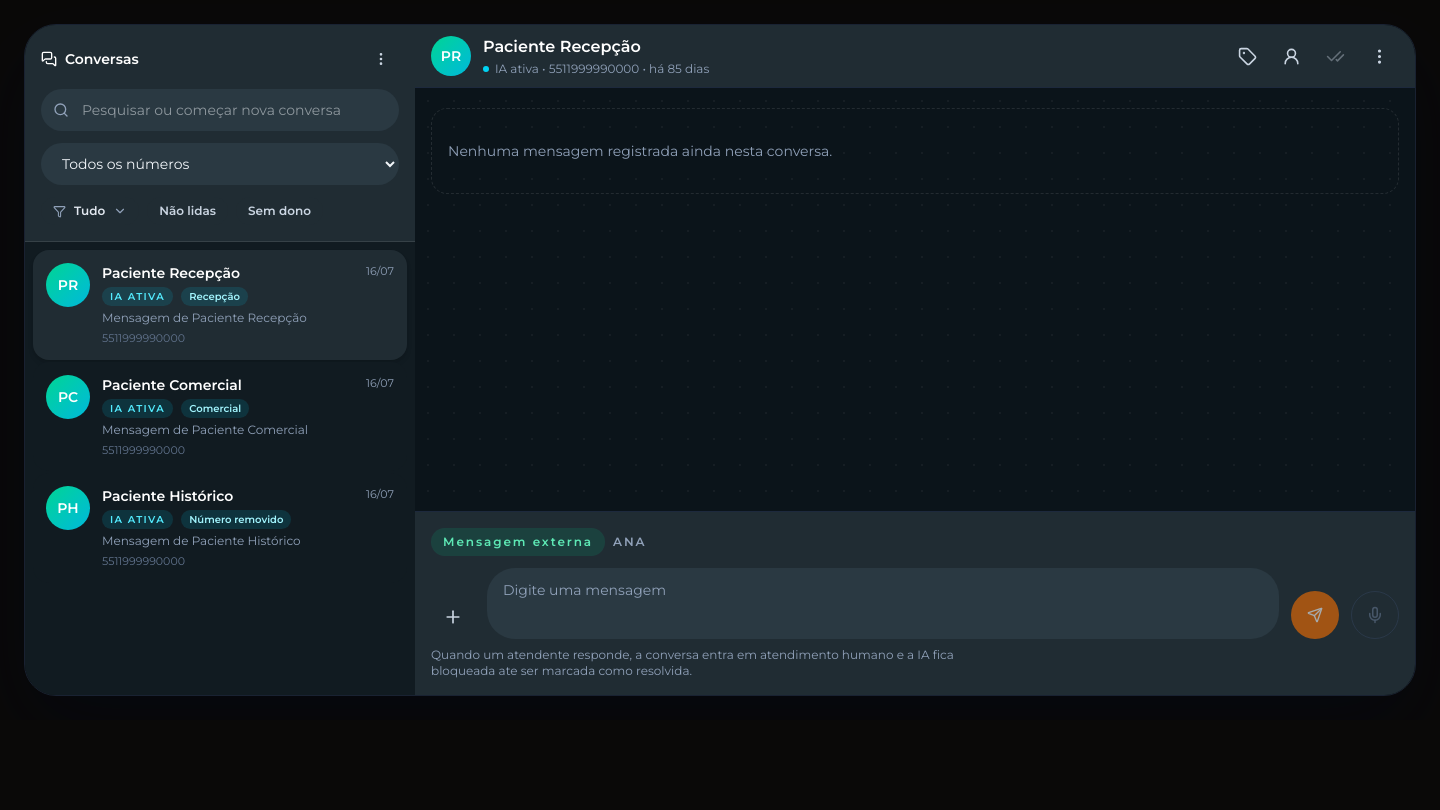
TenantConversationsPage — caixa unificada › o icone de pessoa abre o responsavel, e escolher alguem grava e fecha
The width and height of the screenshot is (1440, 810).
Expected: the field labelled "Responsável" is not shown
Click the button named "Responsável" at (1291, 56), box 1271,36 -> 1311,76
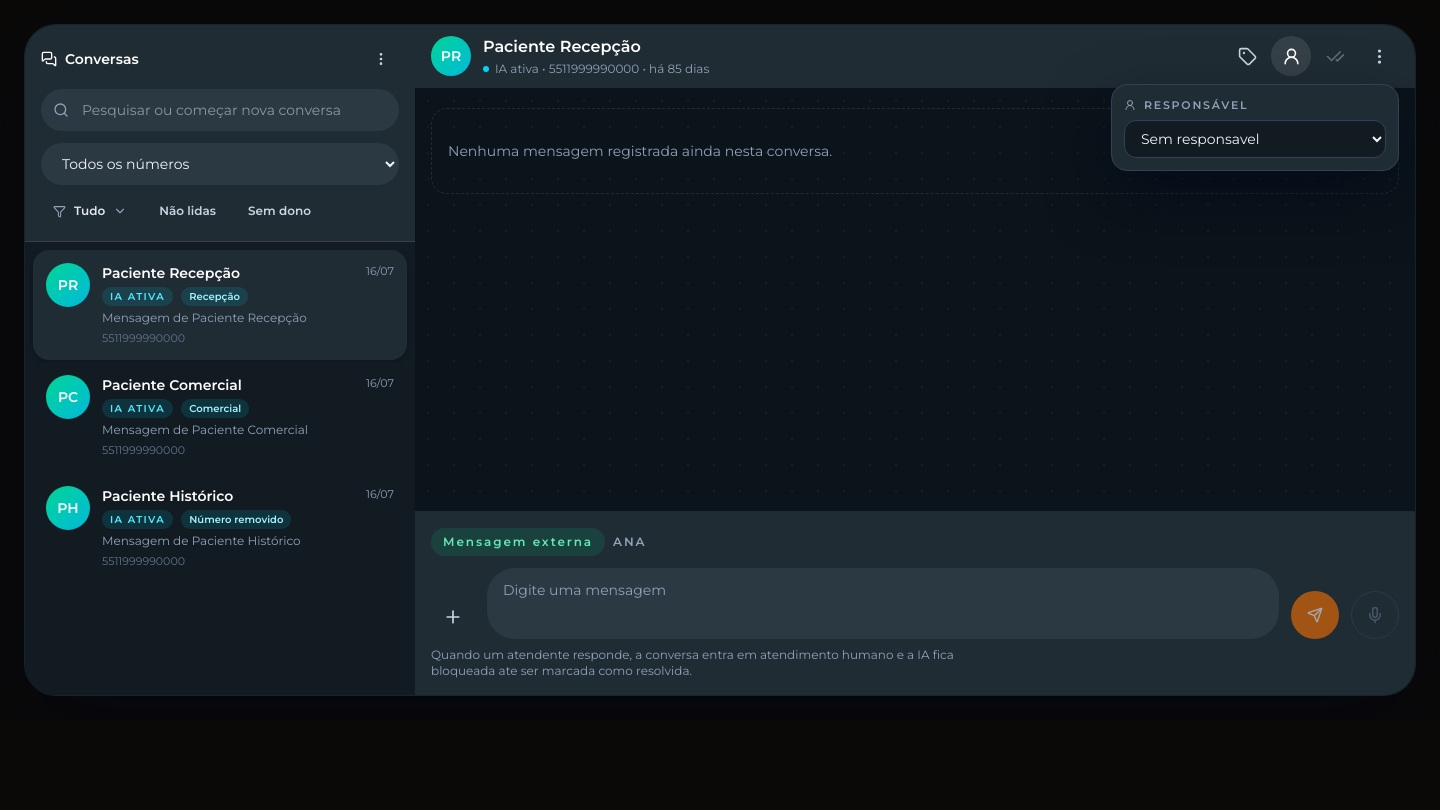
Select "Ana Souza" in the dropdown labelled "Responsável" at (1255, 138), box 1124,120 -> 1386,158
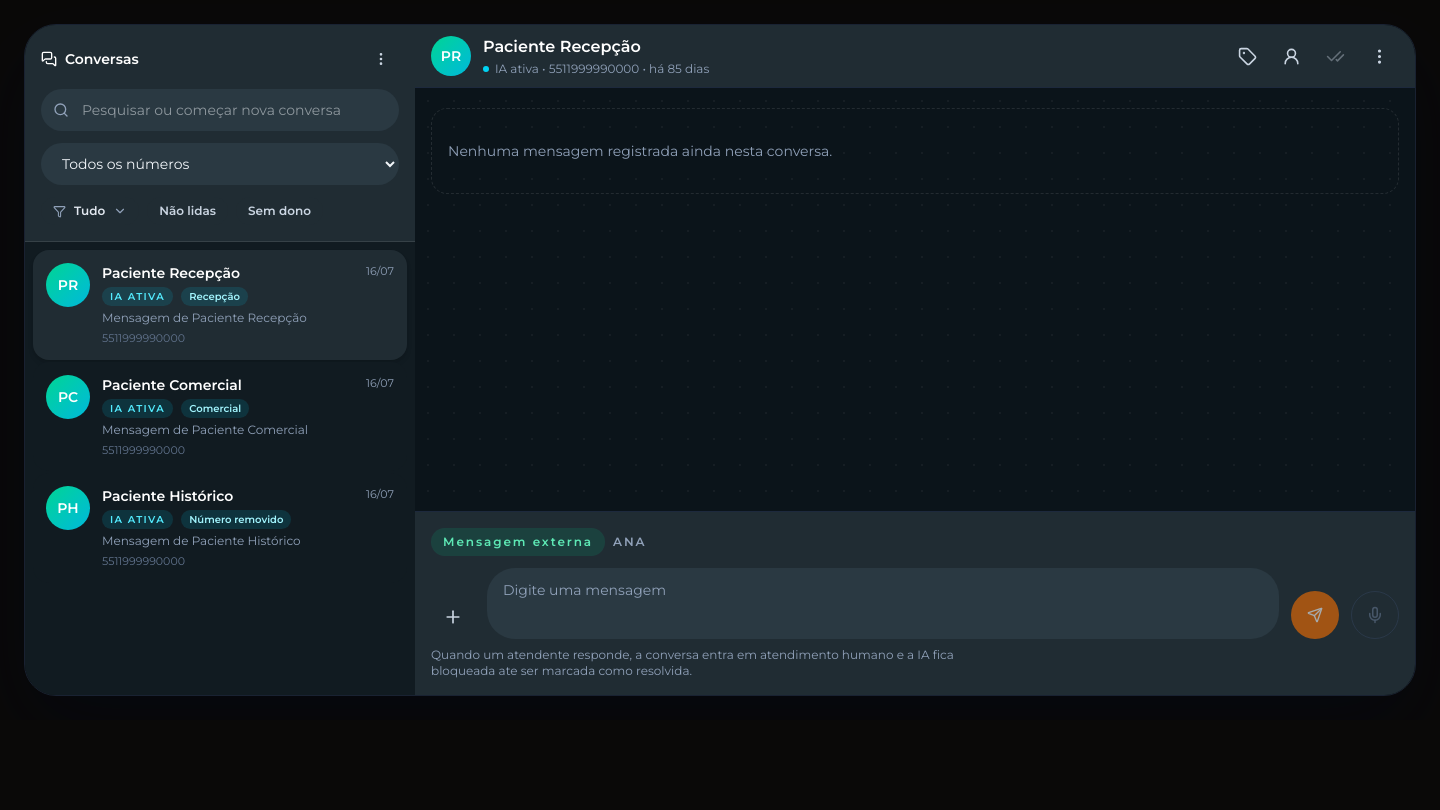
Expected: the label labelled "Responsável" is gone
